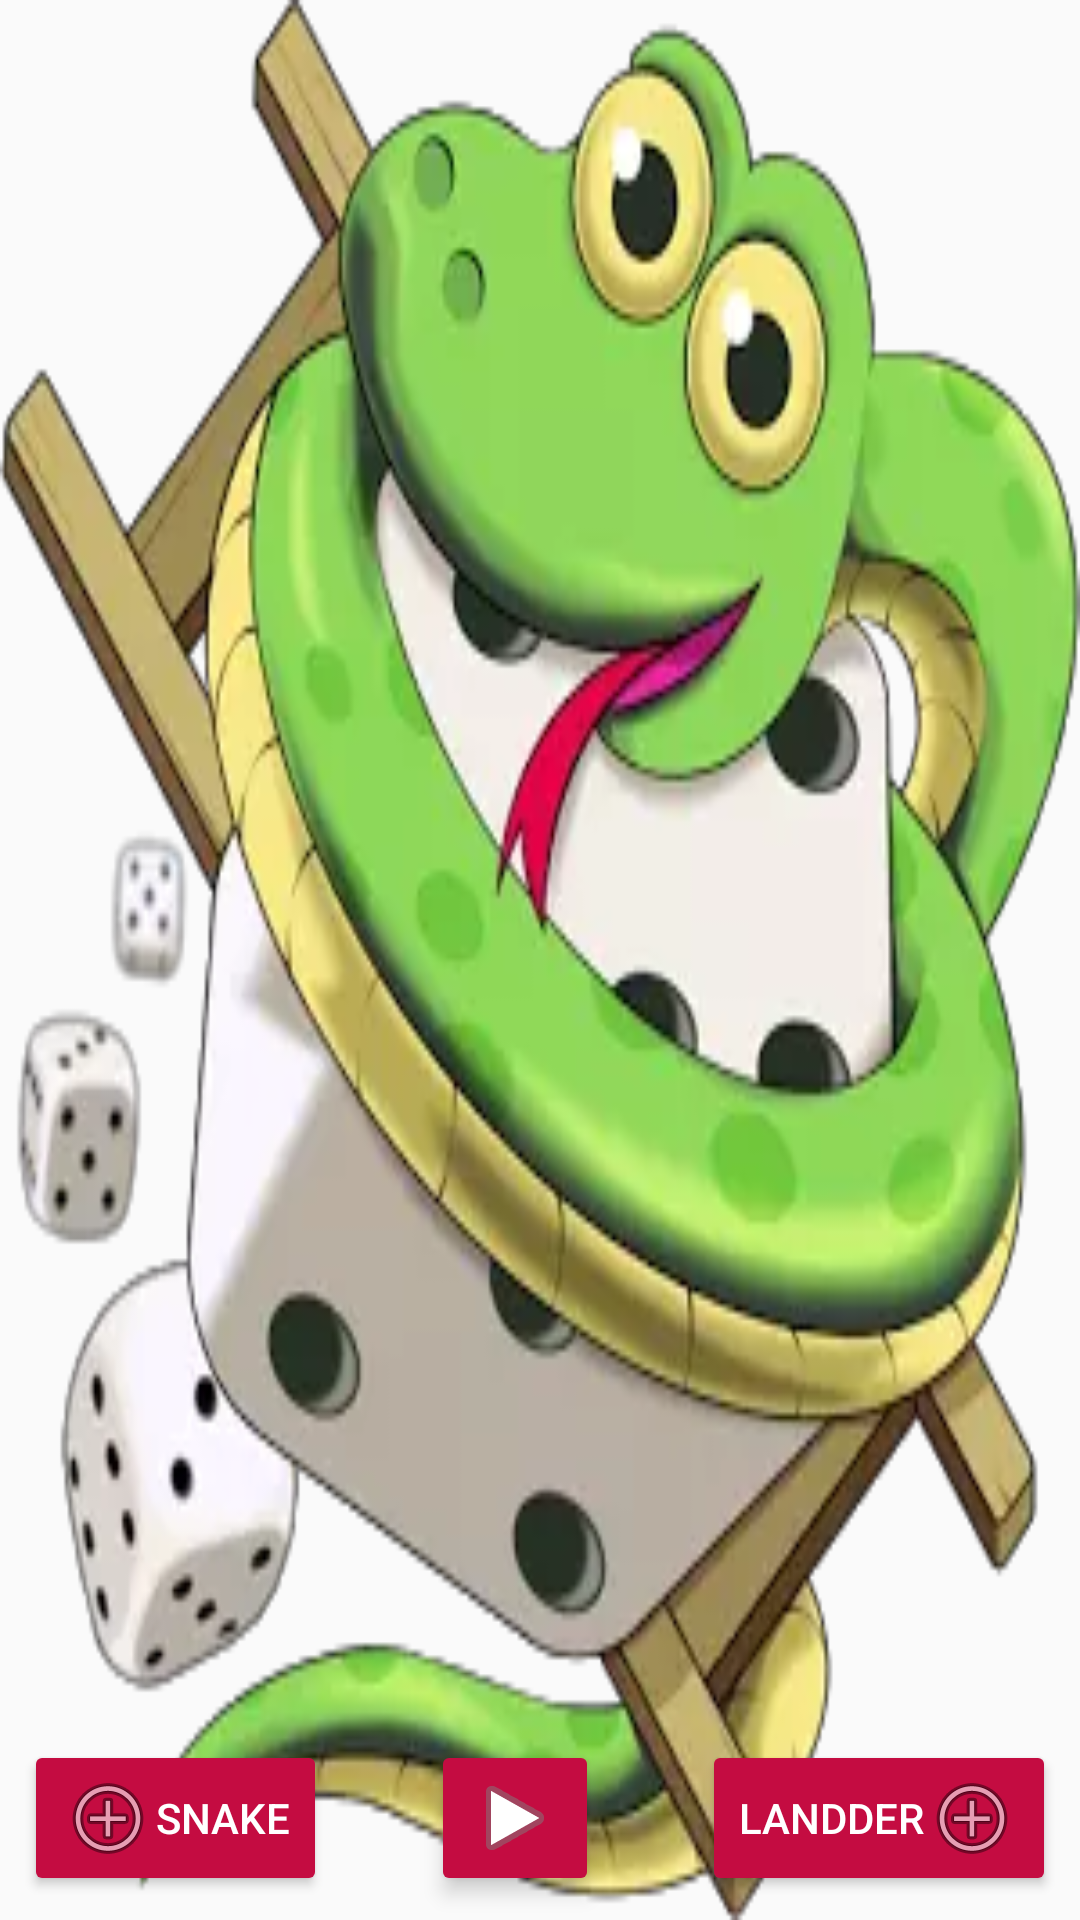

Where to tap for icons on this 1080 × 1920 app screen, as (x,y):
play: (515,1818)
